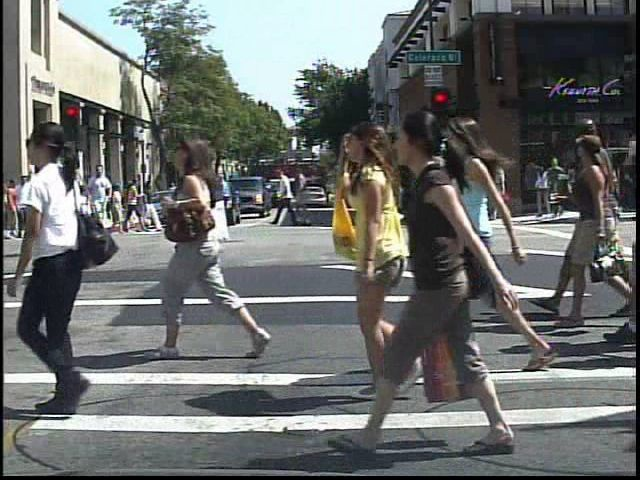person: (363, 101, 517, 459), (0, 116, 117, 434), (432, 106, 563, 379), (136, 117, 268, 363), (338, 117, 413, 394), (84, 160, 116, 239), (485, 153, 517, 226), (40, 165, 68, 239), (102, 177, 122, 217), (164, 175, 183, 211), (20, 171, 28, 242)
